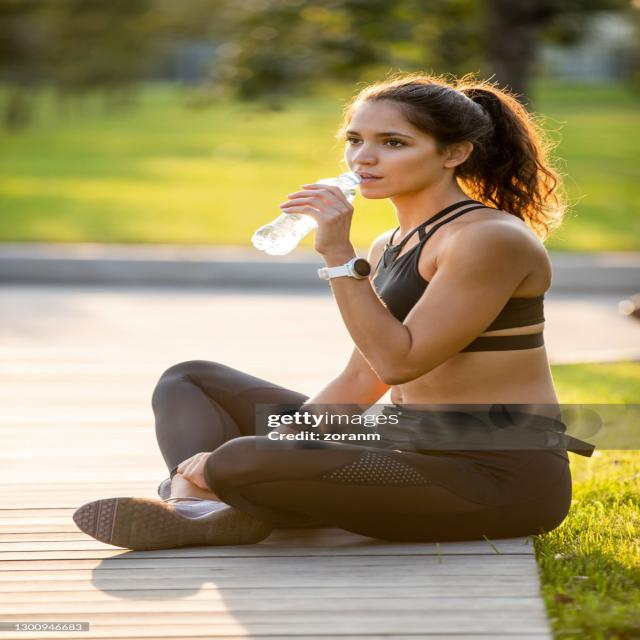bottle: (249, 172, 364, 258)
